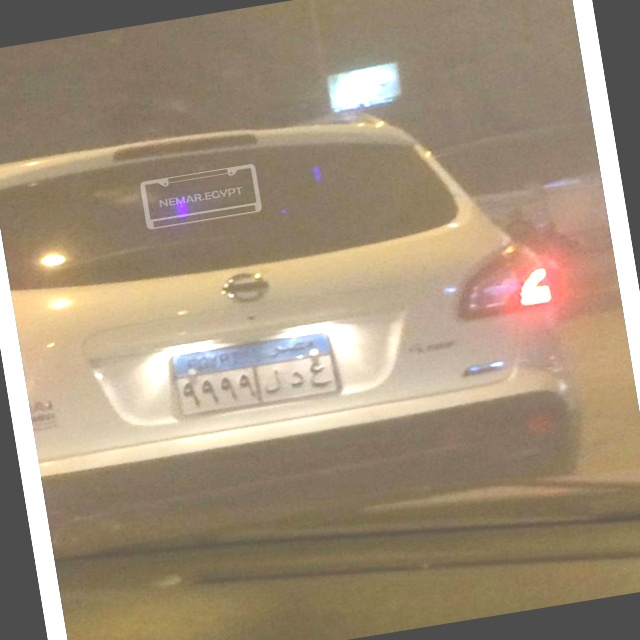License Plate: (165, 325, 345, 423)
